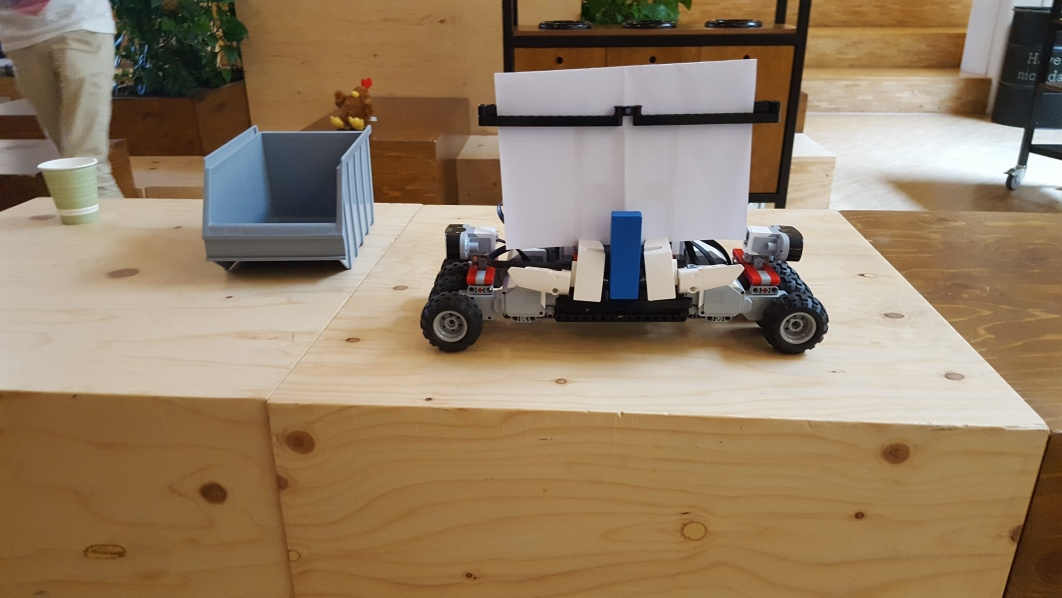beam: (606, 210, 641, 303)
chicken: (327, 78, 377, 129)
cup: (36, 155, 100, 224)
tray: (202, 124, 375, 272)
